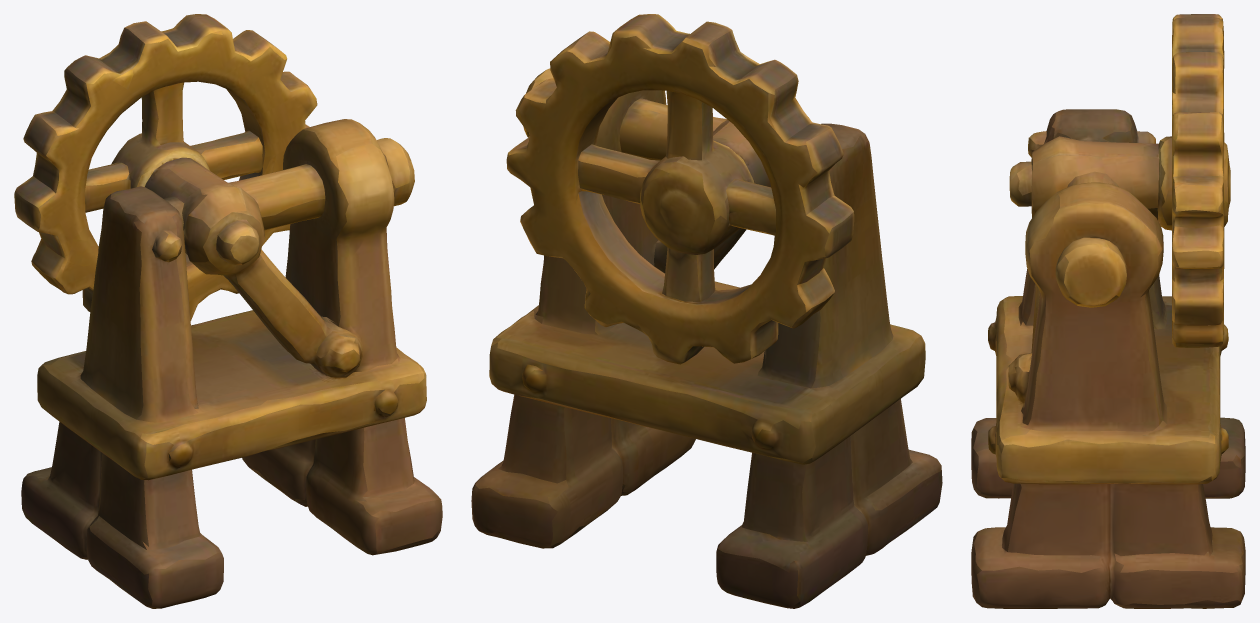
Rendered from a-big-iron-and-brass-press-machi-1dfbe7.glb.
The picture shows the model from 3 angles, left to right: view 1: azimuth 30°, elevation 25°; view 2: azimuth 150°, elevation 25°; view 3: azimuth 270°, elevation 25°; orthographic projection. The views are drawn at different scales.
Parts seen in each view (by area): view 1: geometry_0; view 2: geometry_0; view 3: geometry_0.
Boxes of the visible parts, box(x1,y1,x2,y2) form: geometry_0: box(14, 14, 442, 608); geometry_0: box(471, 14, 942, 608); geometry_0: box(971, 14, 1245, 608).
Bounding box in the file's own units: 0.7091 × 1 × 0.5009.
1 material, 1 textured.
